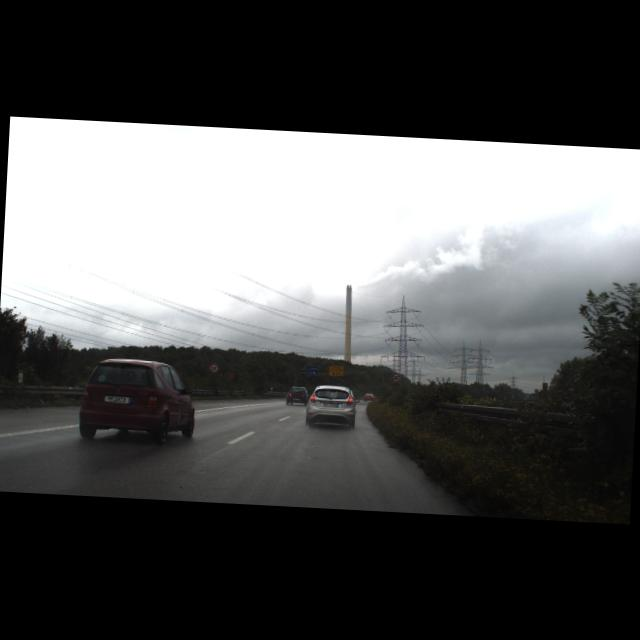prohibitory: (391, 372, 401, 382), (210, 364, 220, 374)
